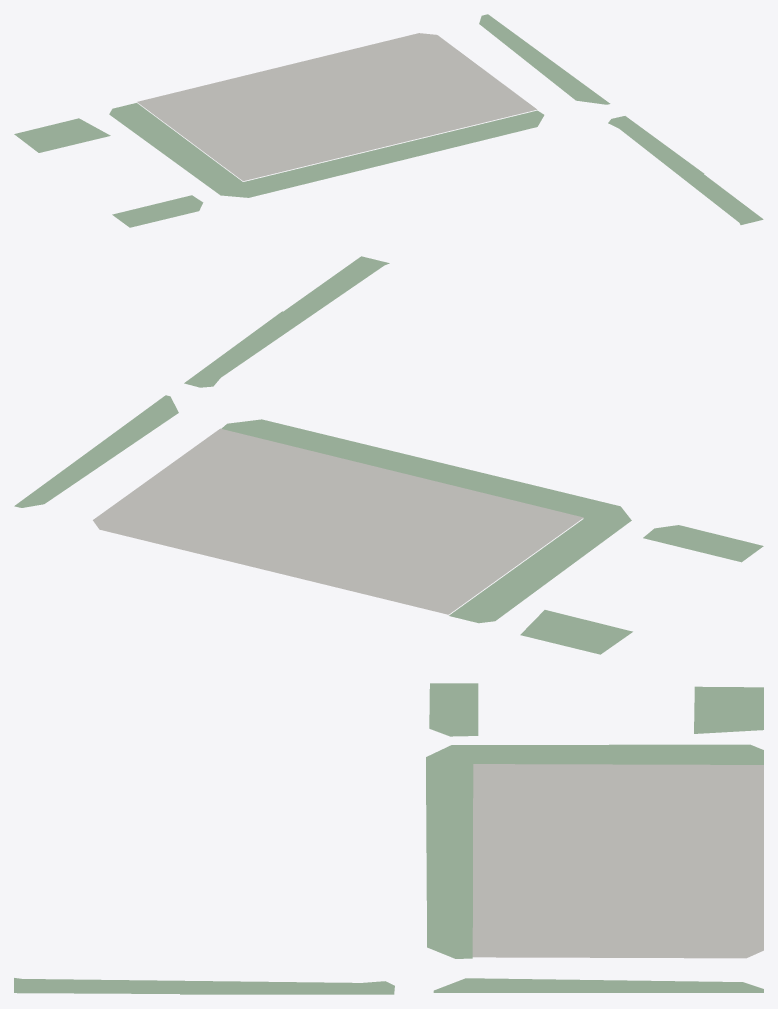
Rendered from 125_72_mid.glb.
3 renders of one model, top to bottom at view 1: azimuth 30°, elevation 25°; view 2: azimuth 150°, elevation 25°; view 3: azimuth 270°, elevation 25°, orthographic. The views are drawn at different scales.
Bounding box in the file's own units: 500 × 5.25 × 500.
